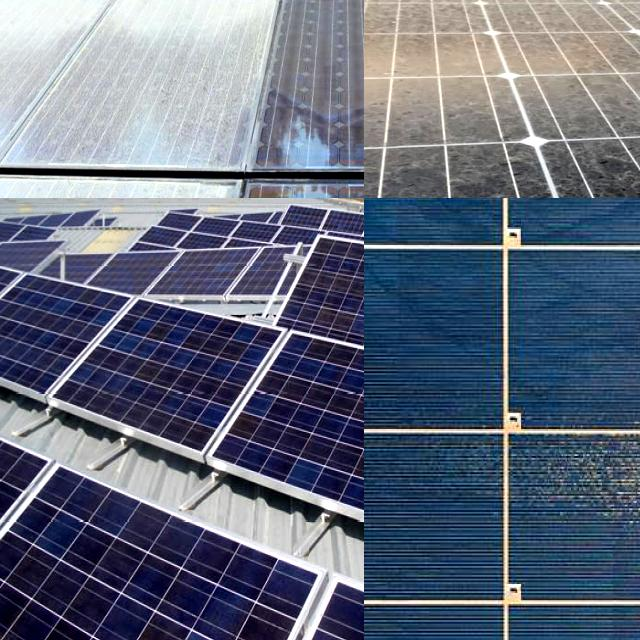crack: (0, 421, 340, 640), (38, 284, 292, 490), (185, 303, 364, 573), (284, 213, 364, 369)
dust: (0, 0, 250, 170), (364, 26, 541, 130), (364, 134, 575, 198), (0, 0, 279, 34), (364, 0, 521, 48), (557, 27, 640, 112), (364, 0, 621, 19)
shadow: (431, 424, 640, 529)
